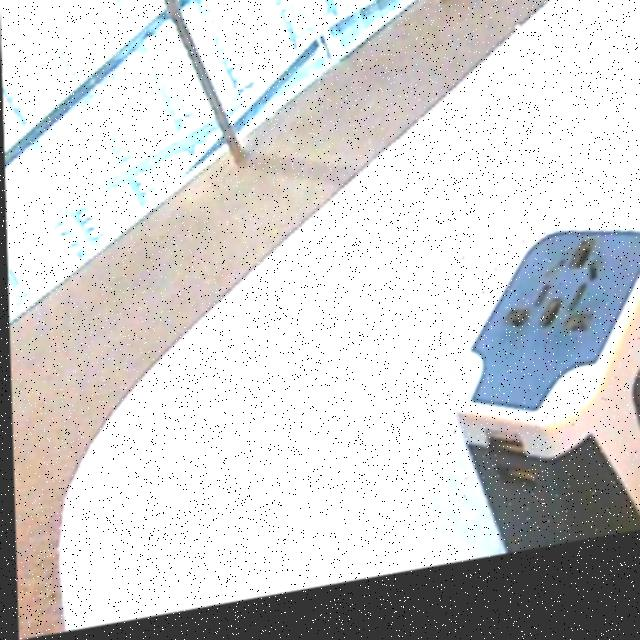adapter: (442, 230, 640, 579)
